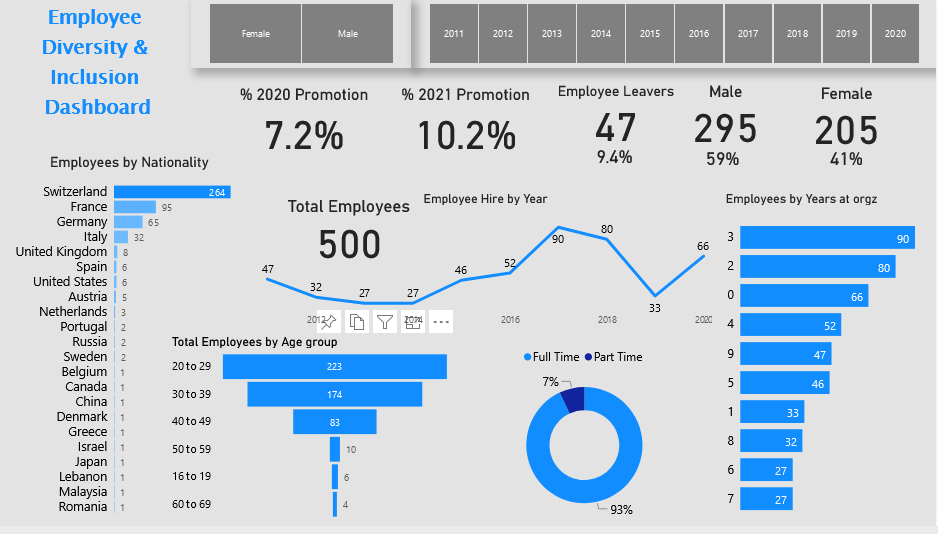

What the dashboard file says about the page in this screenshot:
{"tool":"powerbi","page":{"name":"Page 1","canvas":[1280,720],"ordinal":0},"visuals":[{"type":"funnel","fields":{"Category":["Pharma Group D&I Data.Age group"],"Y":["Pharma Group D&I Data.Total Employees"]},"box":[229.4,457.4,391,258.3],"z":0},{"type":"donutChart","title":"Employees by Job type","fields":{"Category":["Pharma Group D&I Data.Job type"],"Y":["CountNonNull(Pharma Group D&I Data.Employee ID)"]},"box":[620.4,467.5,356.4,252.5],"z":1000},{"type":"slicer","fields":{"Values":["Pharma Group D&I Data.Hire Date.Variation.Date Hierarchy.Year"]},"box":[561.3,0,718.6,93.8],"z":2000},{"type":"lineChart","title":"Employee Hire by Year","fields":{"Category":["Pharma Group D&I Data.Hire Date.Variation.Date Hierarchy.Year"],"Y":["Pharma Group D&I Data.Total Employees"]},"box":[347.7,262,629.9,194.9],"z":3000},{"type":"clusteredBarChart","title":"Employees by Nationality","fields":{"Category":["Pharma Group D&I Data.Nationality"],"Y":["CountNonNull(Pharma Group D&I Data.Employee ID)"]},"box":[5,211.7,342.7,503.9],"z":4000},{"type":"card","title":"Male","fields":{"Values":["Pharma Group D&I Data.Male"]},"box":[895.3,112.5,193.2,90.7],"z":5000},{"type":"card","title":"% 2020 Promotion","fields":{"Values":["Pharma Group D&I Data.% 2020 promotion"]},"box":[305.7,115.9,218.4,102.5],"z":6000},{"type":"card","title":"Employee Leavers","fields":{"Values":["Pharma Group D&I Data.Nos of Leavers"]},"box":[750.9,114.2,179.7,85.7],"z":7000},{"type":"card","title":"% 2021 Promotion","fields":{"Values":["Pharma Group D&I Data.% 2021 promotion"]},"box":[532.5,115.9,206.6,102.5],"z":8000},{"type":"slicer","fields":{"Values":["Pharma Group D&I Data.Gender"]},"box":[261.2,0,300.1,93.8],"z":9000},{"type":"card","fields":{"Values":["Pharma Group D&I Data.% Male"]},"box":[930.6,193.2,112.5,50.4],"z":10000},{"type":"card","title":"Total Employees","fields":{"Values":["Pharma Group D&I Data.Total Employees"]},"box":[379.6,270.4,193.2,89],"z":11000},{"type":"clusteredBarChart","title":"Employees by Years at orgz","fields":{"Category":["Pharma Group D&I Data.Years at orgz"],"Y":["Pharma Group D&I Data.Total Employees"]},"box":[986.9,262.6,292.9,457.4],"z":12000},{"type":"card","title":"Female","fields":{"Values":["Pharma Group D&I Data.Female"]},"box":[1053.2,114.2,206.6,90.7],"z":13000},{"type":"card","fields":{"Values":["Pharma Group D&I Data.% Female"]},"box":[1100.3,193.2,112.5,48.7],"z":14000},{"type":"textbox","box":[5,0,255.3,183.1],"z":15000},{"type":"card","fields":{"Values":["Calculations.% of Turnover"]},"box":[792.9,183.1,94.1,62.2],"z":16000}]}

Visuals, with their boxes in screenshot pixels (x1, y1, x2, y2), scaled from the page's 1280x720 canvas onto the 938x534 screenshot:
funnel - Pharma Group D&I Data.Age group x Pharma Group D&I Data.Total Employees: <region>168, 339, 455, 531</region>
"Employees by Job type" donutChart: <region>455, 347, 716, 533</region>
slicer - Pharma Group D&I Data.Hire Date.Variation.Date Hierarchy.Year: <region>411, 0, 937, 70</region>
"Employee Hire by Year" lineChart: <region>255, 194, 716, 339</region>
"Employees by Nationality" clusteredBarChart: <region>4, 157, 255, 531</region>
"Male" card: <region>656, 83, 798, 151</region>
"% 2020 Promotion" card: <region>224, 86, 384, 162</region>
"Employee Leavers" card: <region>550, 85, 682, 148</region>
"% 2021 Promotion" card: <region>390, 86, 542, 162</region>
slicer - Pharma Group D&I Data.Gender: <region>191, 0, 411, 70</region>
card - Pharma Group D&I Data.% Male: <region>682, 143, 764, 181</region>
"Total Employees" card: <region>278, 201, 420, 267</region>
"Employees by Years at orgz" clusteredBarChart: <region>723, 195, 937, 533</region>
"Female" card: <region>772, 85, 923, 152</region>
card - Pharma Group D&I Data.% Female: <region>806, 143, 889, 179</region>
textbox: <region>4, 0, 191, 136</region>
card - Calculations.% of Turnover: <region>581, 136, 650, 182</region>
